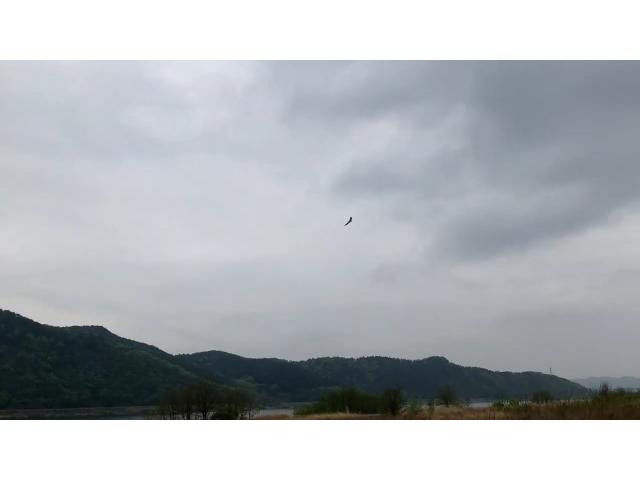Anti-Drone: (332, 212, 364, 236)
